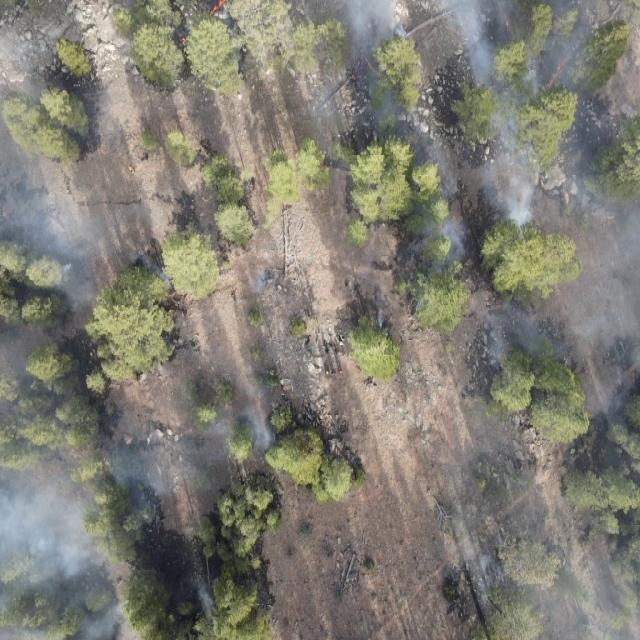fire: (546, 56, 568, 86), (350, 58, 374, 81), (502, 15, 515, 34), (210, 0, 227, 14), (176, 36, 190, 46), (280, 386, 290, 396), (256, 398, 263, 408)
smoke: (341, 0, 639, 391), (0, 0, 116, 328), (0, 459, 131, 640), (462, 542, 640, 640), (122, 408, 288, 508), (117, 230, 177, 300), (188, 578, 226, 626), (238, 262, 276, 306)
